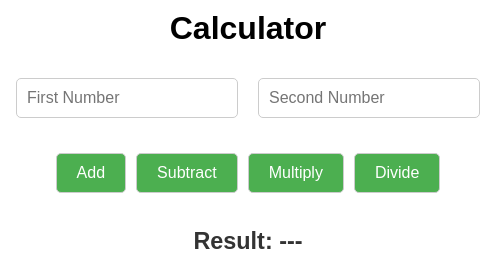
Calculator App › performs addition operation
# Вводим числа
Type "5" into the number field with placeholder "First Number" at point(127, 98), box left=16, top=78, right=238, bottom=118
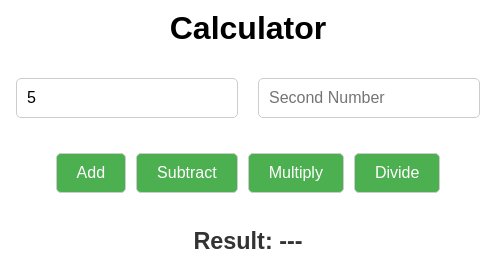
Type "3" into the number field with placeholder "Second Number" at point(369, 98), box left=258, top=78, right=480, bottom=118
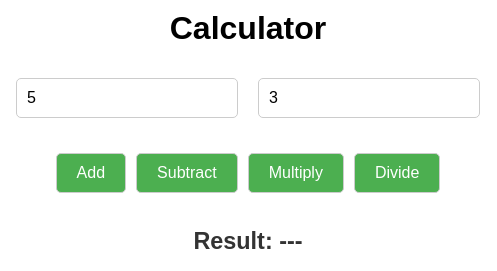
# Нажимаем кнопку сложения
Click the button "Add" at point(91, 173), box left=56, top=153, right=126, bottom=193
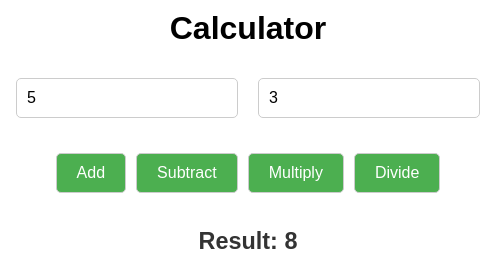
expect the heading "Result: 8" is shown: met, box left=199, top=228, right=297, bottom=254
